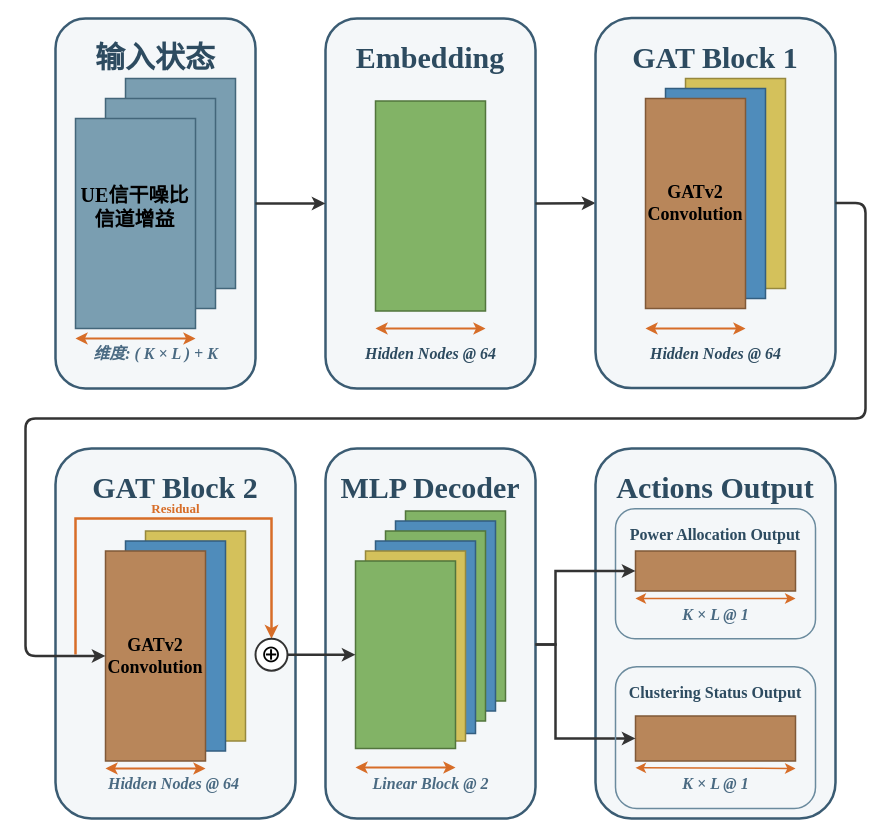
Image size: 892x837. Some labels were removed from this diagram. The shapes that lost their labels are listed below. From the top down, each one's centre as x and y in pixels, then its label:
At point (430, 205): "Embedding Layer".
At point (715, 570): "Softmax Normalization".
At point (405, 654): "Linear Layer".
At point (715, 738): "Straight-Through Estimator".
